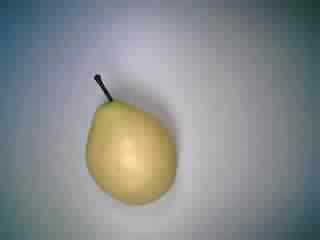pear: (72, 70, 189, 209)
